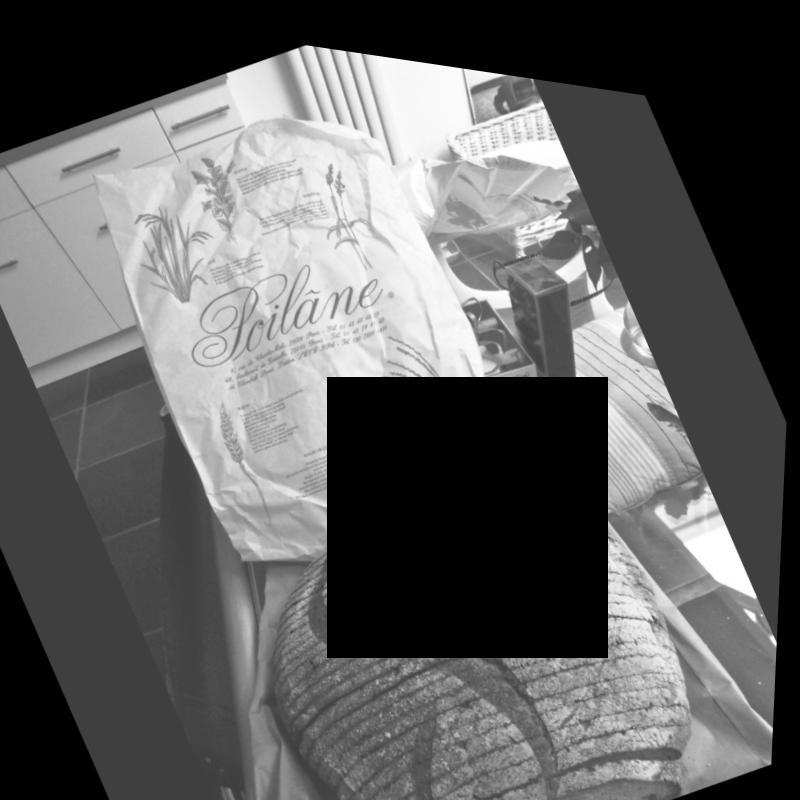pillow: (76, 34, 573, 593)
